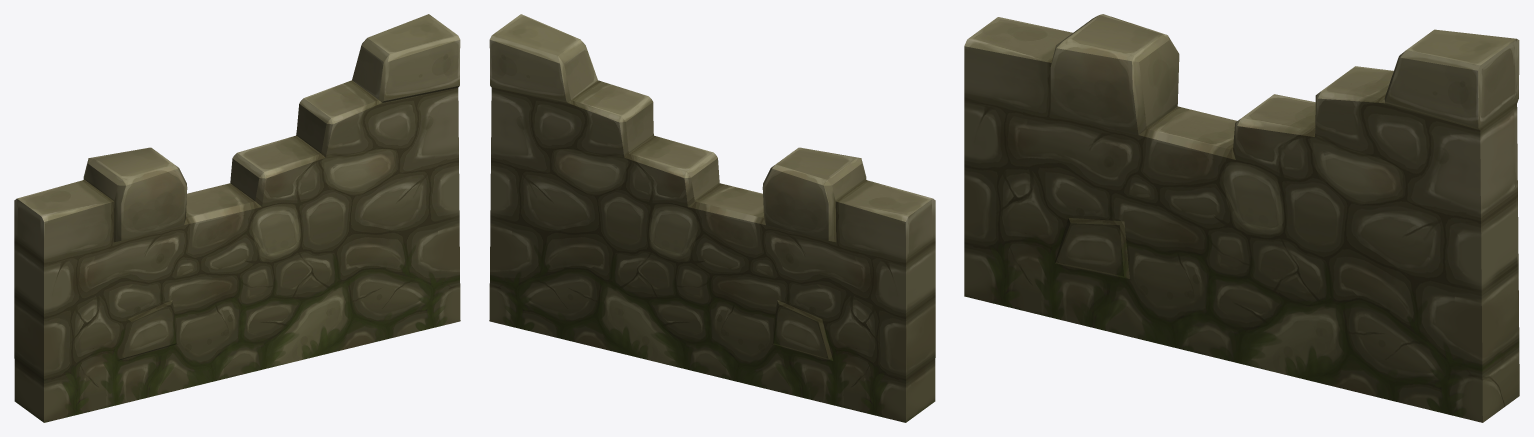
Rendered from Wall_2.FBX.
3 views of the same model, side by side, from view 1: azimuth 30°, elevation 25°; view 2: azimuth 150°, elevation 25°; view 3: azimuth 330°, elevation 25° (orthographic). The views are drawn at different scales.
Visible parts, largest first — view 1: Wall_2; view 2: Wall_2; view 3: Wall_2.
Part boxes in pixels (left/top/right/bottom): Wall_2: left=14, top=14, right=460, bottom=422; Wall_2: left=489, top=14, right=935, bottom=422; Wall_2: left=964, top=14, right=1519, bottom=422.
Bounding box in the file's own units: 2.01 × 1.32 × 0.3135.
